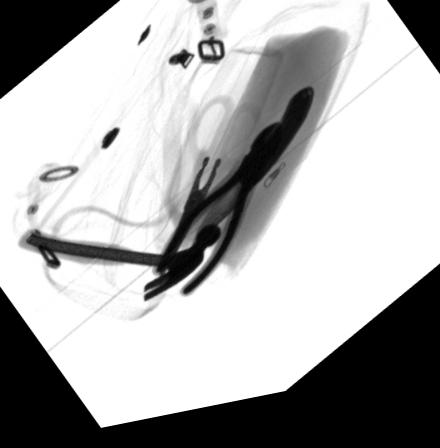Hammer: (13, 226, 223, 311)
Knife: (184, 96, 316, 263)
Pliers: (152, 129, 284, 304)
Scissors: (151, 101, 264, 283)
